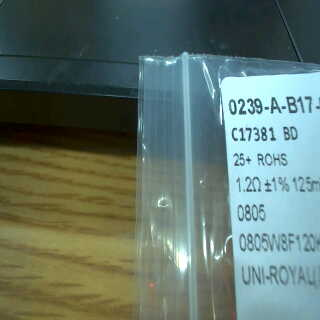1.2R: (230, 172, 268, 223)
